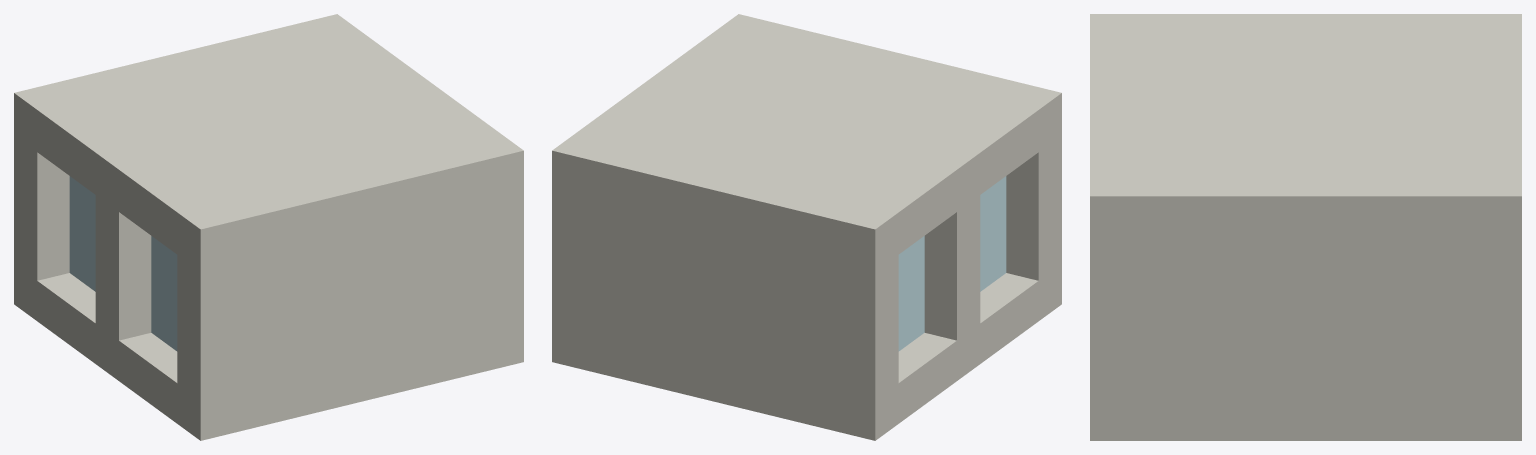
The model's file is building_034.glb.
3 renders of one model, left to right at view 1: azimuth 30°, elevation 25°; view 2: azimuth 150°, elevation 25°; view 3: azimuth 270°, elevation 25°, orthographic. The views are drawn at different scales.
Parts seen in each view (by area): view 1: building_034; view 2: building_034; view 3: building_034.
Boxes of the visible parts, x1,y1,x2,y2 form: building_034: (14, 14, 523, 440); building_034: (552, 14, 1061, 440); building_034: (1090, 14, 1521, 440).
Bounding box in the file's own units: 1 × 0.625 × 1.
